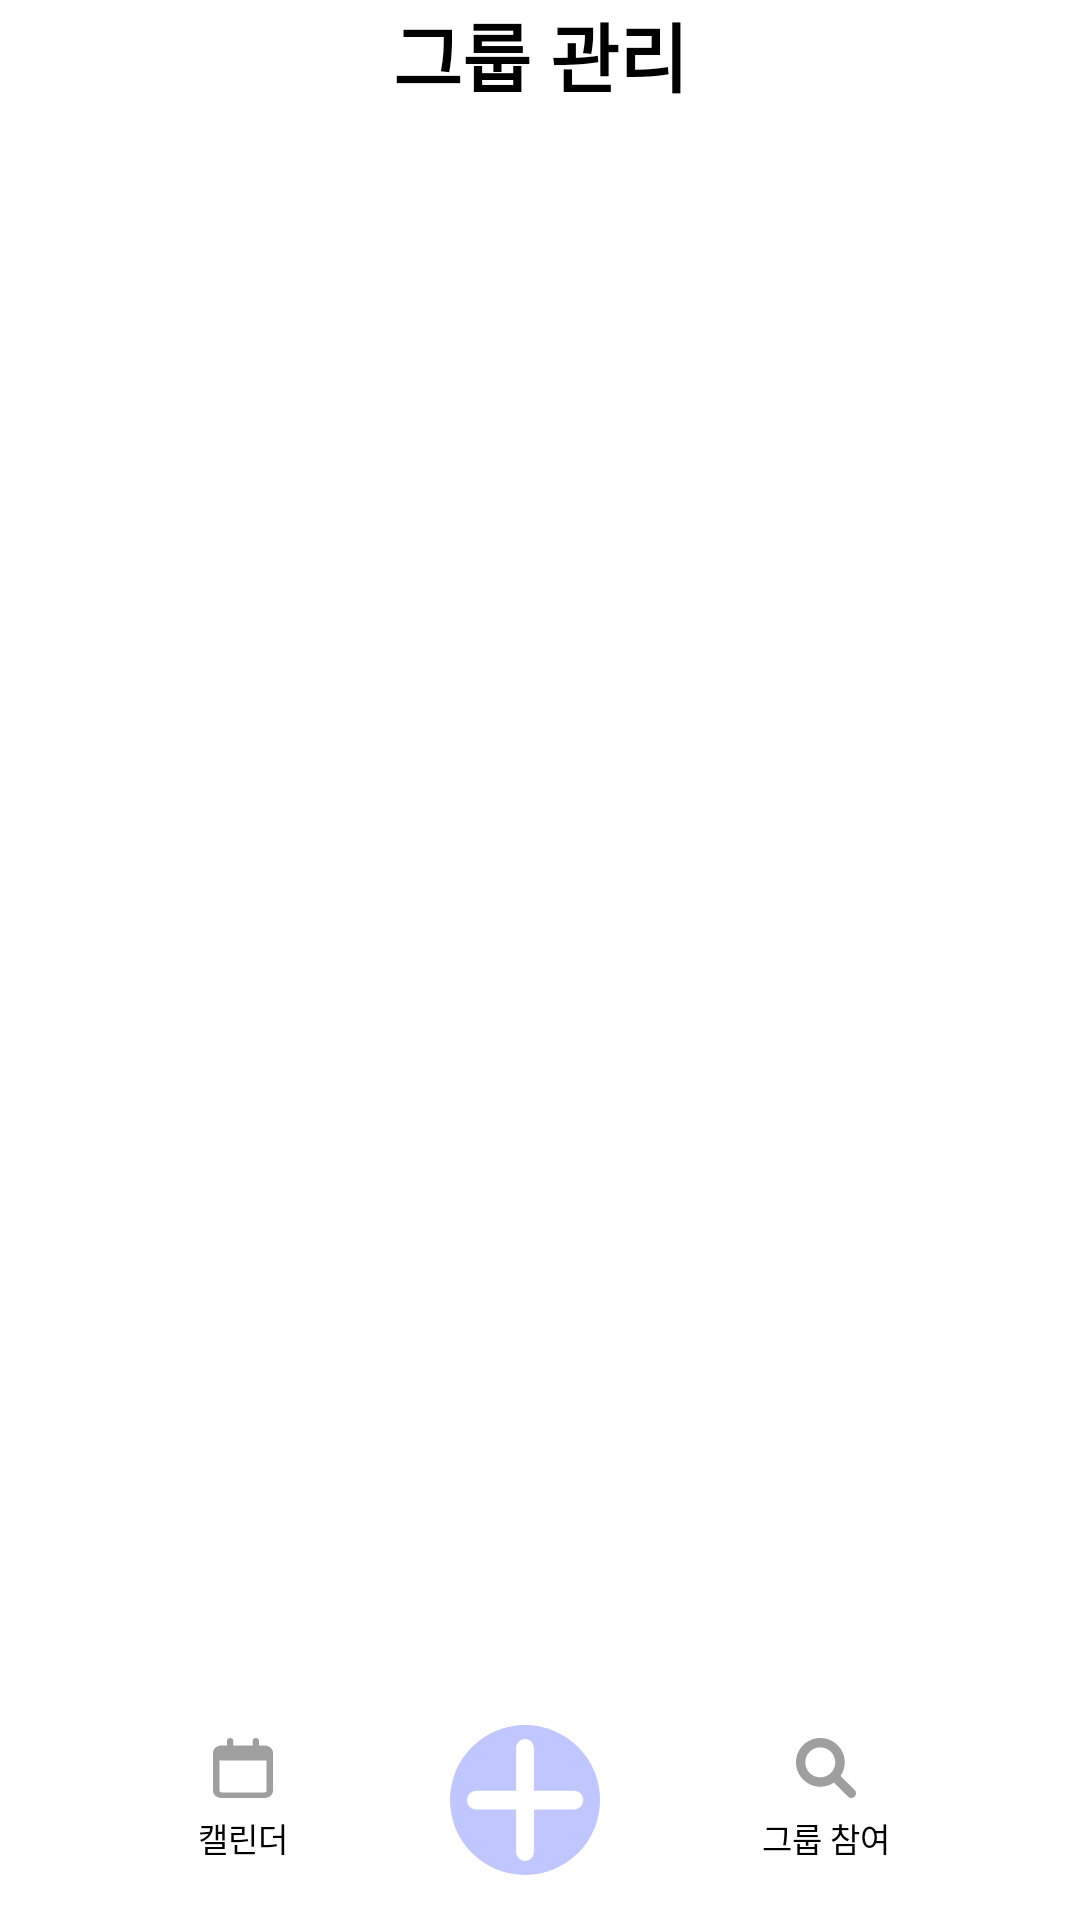

Icon bounding boxes for this 1080×1920 phone screenshot, format (x1, y1, x2, y2):
magnifying glass: (796, 1738, 856, 1798)
plus: (450, 1725, 600, 1875)
